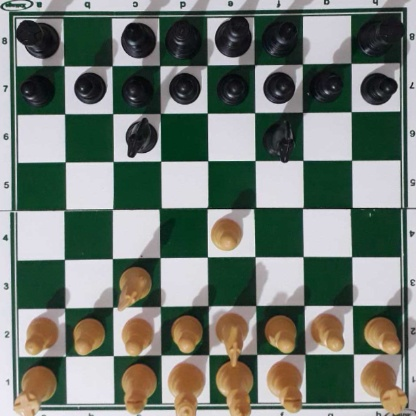black-bishop: (260, 16, 300, 56), (118, 19, 157, 56)
black-king: (212, 14, 252, 60)
black-knight: (263, 116, 296, 161), (124, 117, 156, 155)
black-pawn: (360, 69, 396, 104), (263, 67, 295, 103), (168, 67, 199, 104), (311, 67, 343, 102), (73, 69, 105, 104), (20, 71, 53, 104), (121, 71, 152, 106), (216, 69, 247, 104)
black-queen: (164, 16, 202, 60)
black-rook: (358, 10, 402, 55), (12, 16, 59, 58)
white-bishop: (121, 363, 159, 416), (266, 361, 303, 411)
white-king: (216, 359, 254, 416)
white-knight: (214, 311, 249, 366), (115, 263, 150, 308)
white-pawn: (310, 311, 346, 351), (363, 314, 400, 352), (23, 314, 58, 354), (264, 312, 298, 351), (119, 315, 152, 354), (168, 313, 201, 351), (71, 315, 104, 352), (209, 215, 242, 250)
white-queen: (166, 361, 206, 416)
white-rook: (361, 356, 404, 413), (15, 360, 54, 415)
